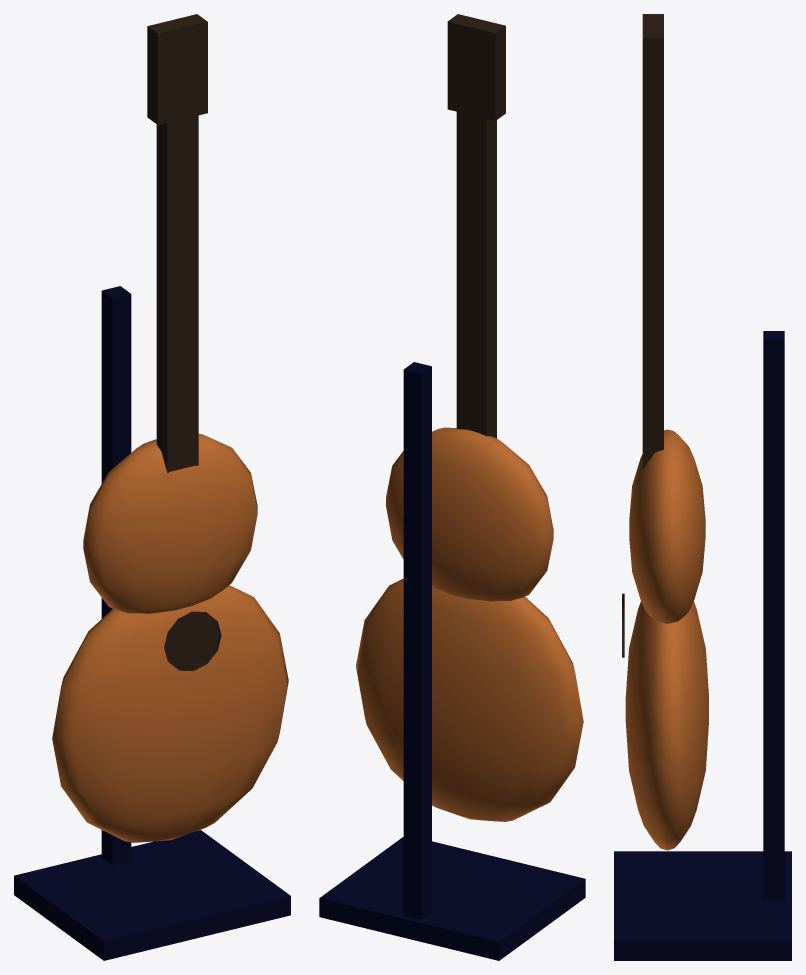
File: guitar.glb
The picture shows the model from 3 angles, left to right: view 1: azimuth 30°, elevation 25°; view 2: azimuth 150°, elevation 25°; view 3: azimuth 270°, elevation 25°; orthographic projection. The views are drawn at different scales.
Parts seen in each view (by area): view 1: guitar; view 2: guitar; view 3: guitar.
Boxes of the visible parts, left/top/right/bottom form: guitar: left=14, top=14, right=290, bottom=960; guitar: left=319, top=14, right=585, bottom=960; guitar: left=614, top=14, right=791, bottom=960.
Bounding box in the file's own units: 0.38 × 1.38 × 0.25.
